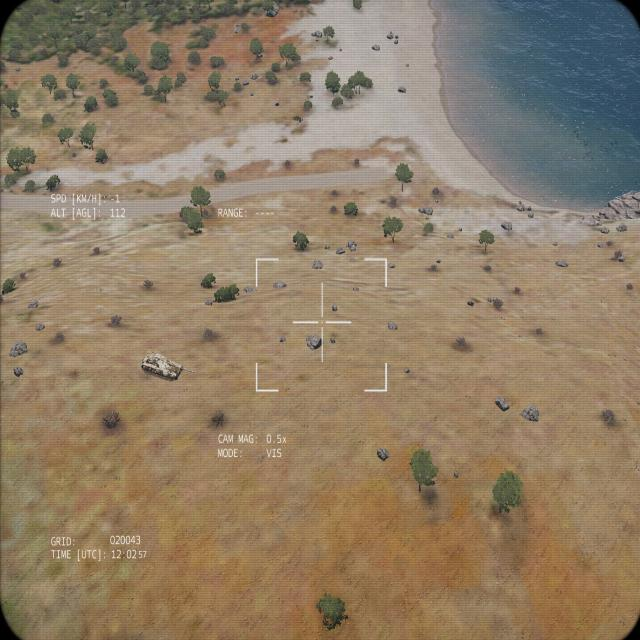tank: (140, 350, 196, 384)
